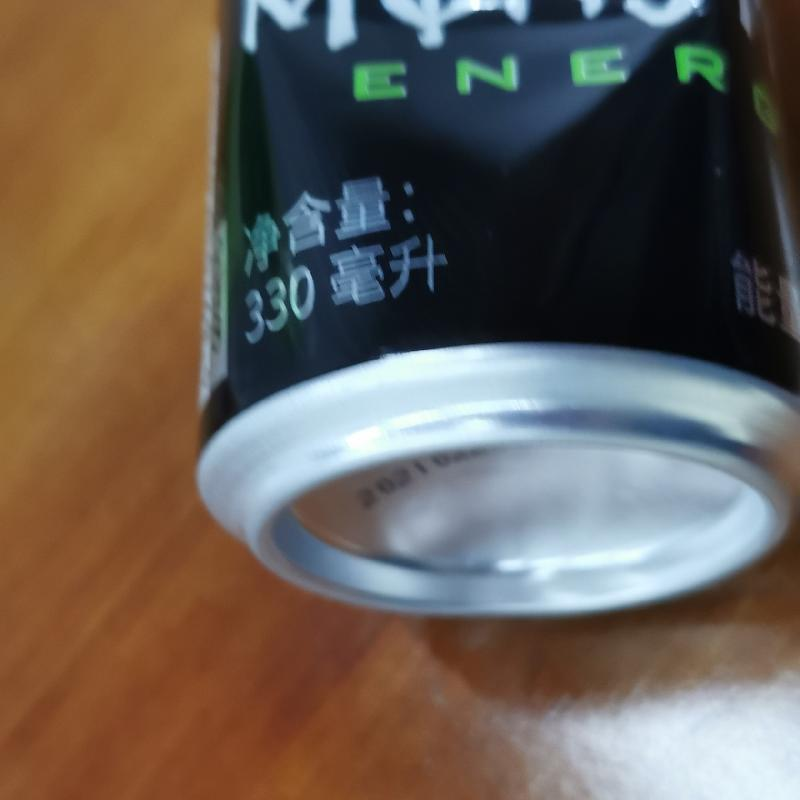cans: (190, 5, 800, 621)
